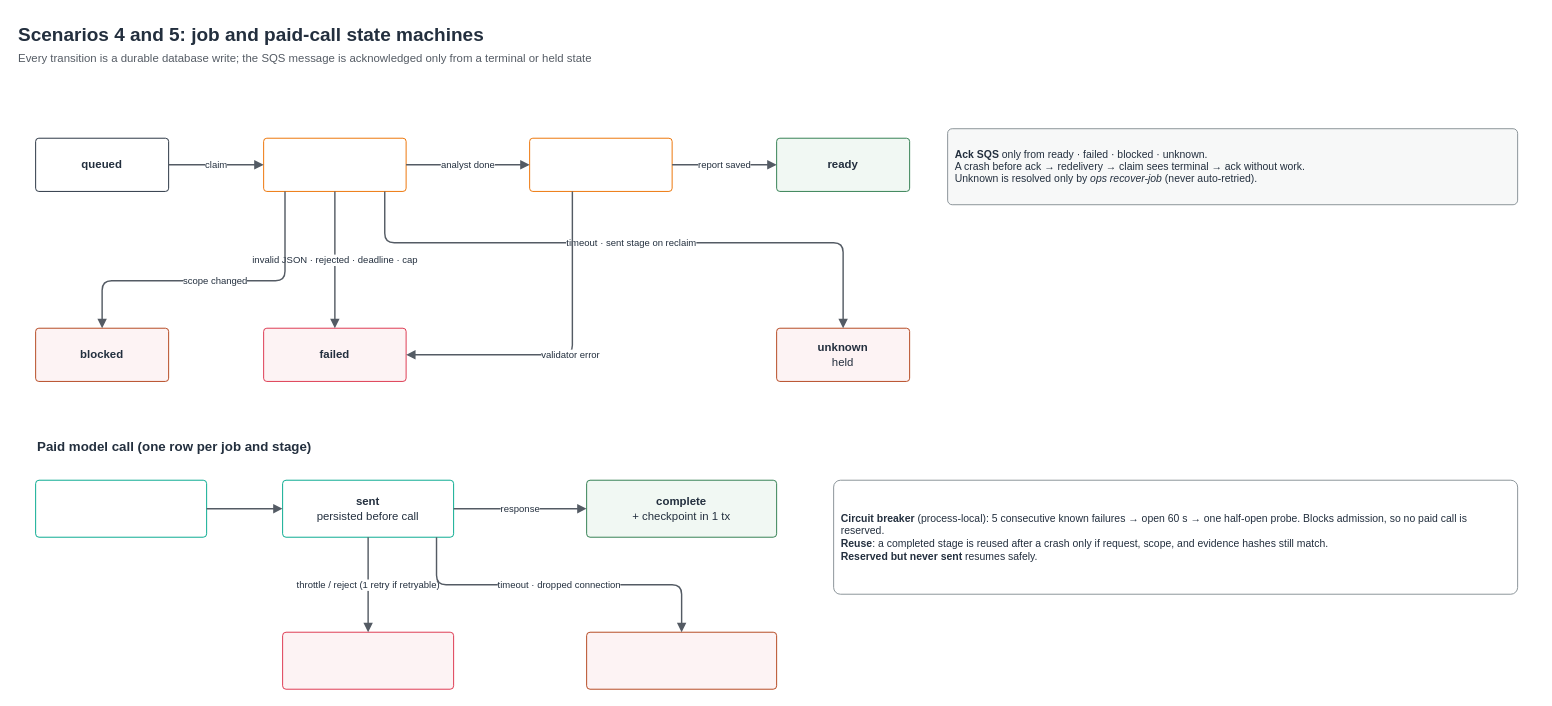
Image size: 1552x706. Some labels were removed from this diagram. The shapes that lost their labels are listed below. From the top down, each one's box as (x1, y1, x2, y2) in pixels, then its label:
(263, 137, 406, 191): running lease 120 s
(529, 137, 672, 191): validating
(35, 479, 207, 537): reserved admitted against cap
(282, 631, 454, 689): known_failure no generation
(586, 631, 777, 689): unknown may have generated
